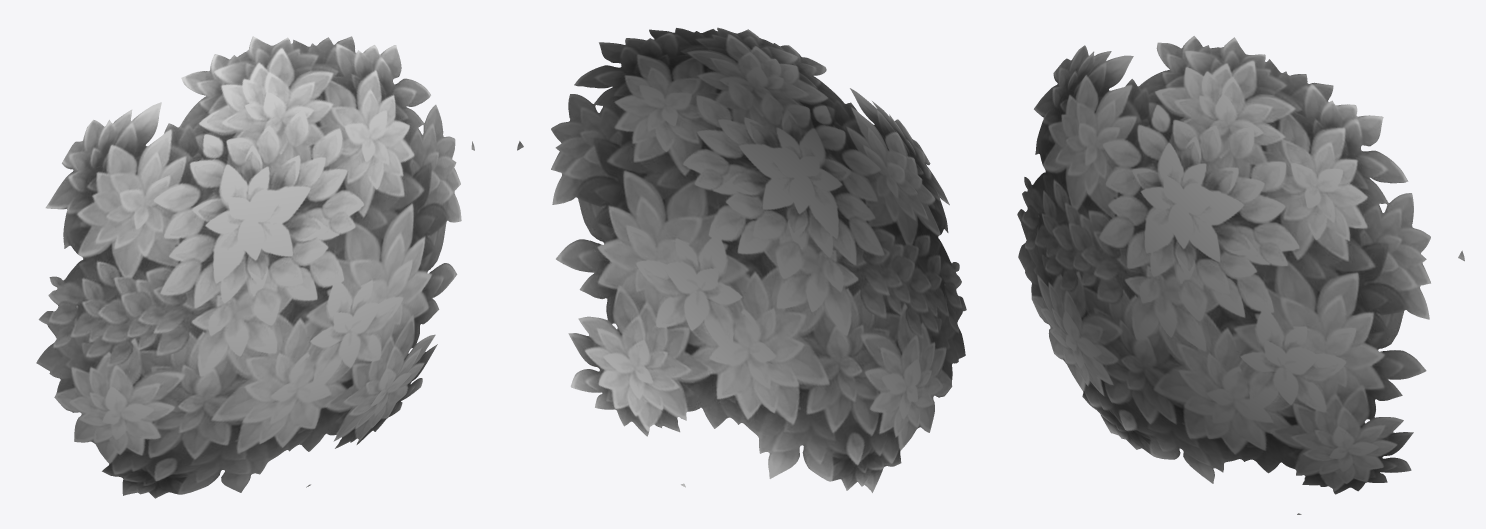
File: Ivy_11.fbx
3 renders of one model, left to right at view 1: azimuth 30°, elevation 25°; view 2: azimuth 150°, elevation 25°; view 3: azimuth 330°, elevation 25°, orthographic.
Parts seen in each view (by area): view 1: Sphere001; view 2: Sphere001; view 3: Sphere001.
Part boxes in pixels (x1,y1,x2,y2): Sphere001: (36, 36, 474, 498); Sphere001: (517, 27, 966, 492); Sphere001: (1017, 36, 1464, 514).
Bounding box in the file's own units: 13634 × 1643 × 13634.
